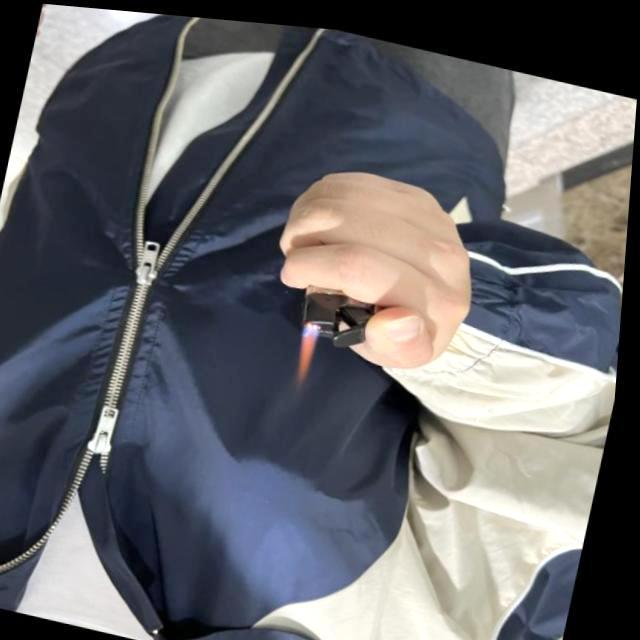fire: (298, 318, 324, 380)
